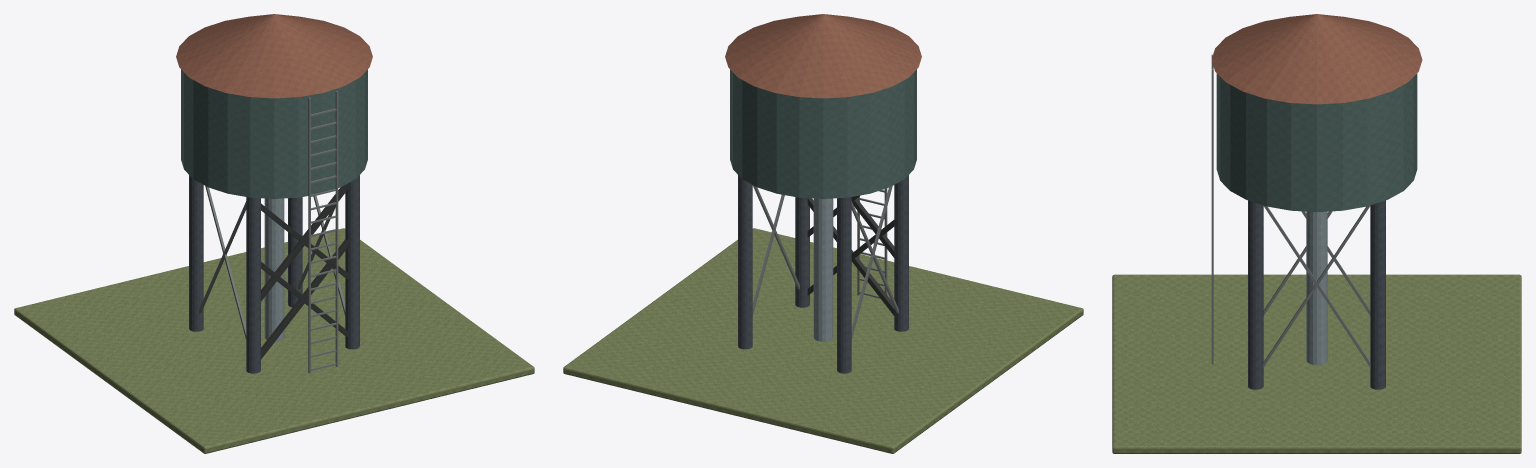
Rendered from UTIL_WATER_2x2_001.glb.
3 views of the same model, side by side, from view 1: azimuth 30°, elevation 25°; view 2: azimuth 150°, elevation 25°; view 3: azimuth 270°, elevation 25° (orthographic). The views are drawn at different scales.
Parts seen in each view (by area): view 1: UTIL_WATER_2x2_001_Visual; view 2: UTIL_WATER_2x2_001_Visual; view 3: UTIL_WATER_2x2_001_Visual.
Boxes of the visible parts, x1,y1,x2,y2 form: UTIL_WATER_2x2_001_Visual: [14, 14, 534, 453]; UTIL_WATER_2x2_001_Visual: [563, 14, 1083, 453]; UTIL_WATER_2x2_001_Visual: [1112, 14, 1521, 453].
Size of what is drawn, in the model's own units: 3.88 by 3.7 by 3.88.
Materials: 7 (5 with a texture image).
